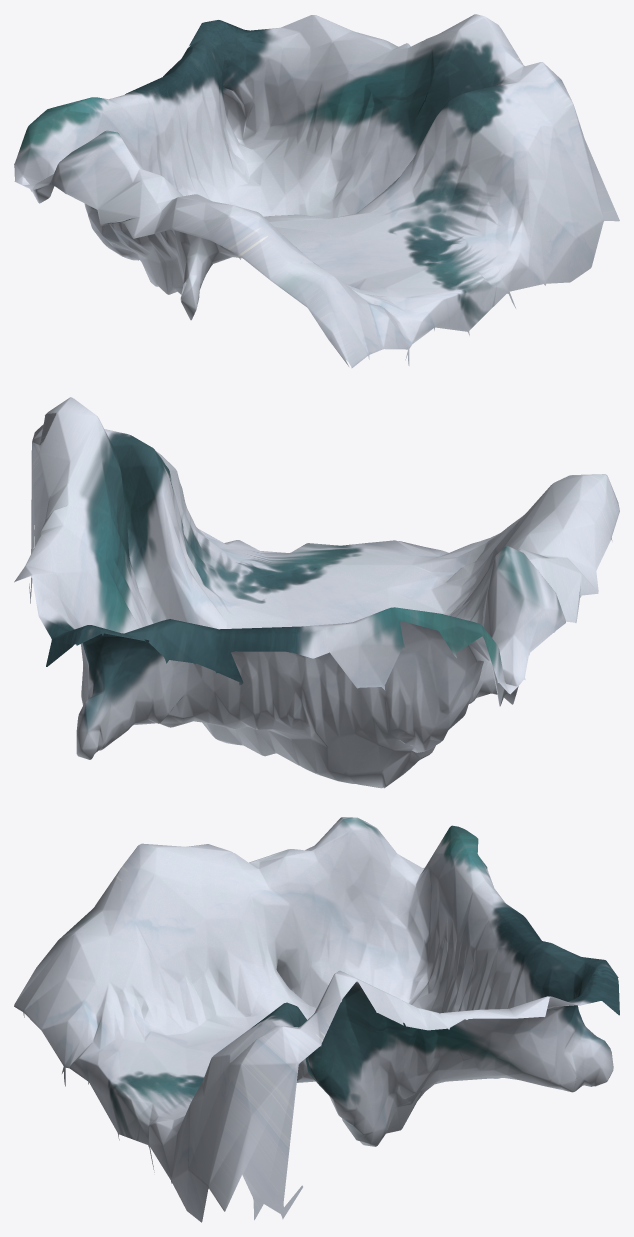
Rendered from IceArenaLandscapeLarge.fbx.
The picture shows the model from 3 angles, top to bottom: view 1: azimuth 30°, elevation 25°; view 2: azimuth 150°, elevation 25°; view 3: azimuth 270°, elevation 25°; orthographic projection. The views are drawn at different scales.
Visible parts, largest first — view 1: LandScape_Large; view 2: LandScape_Large; view 3: LandScape_Large.
Part boxes in pixels (left/top/right/bottom): LandScape_Large: left=14, top=14, right=619, bottom=368; LandScape_Large: left=14, top=397, right=619, bottom=788; LandScape_Large: left=14, top=817, right=619, bottom=1222.
Bounding box in the file's own units: 115912 × 49903 × 115769.
Materials: 1 (1 with a texture image).
